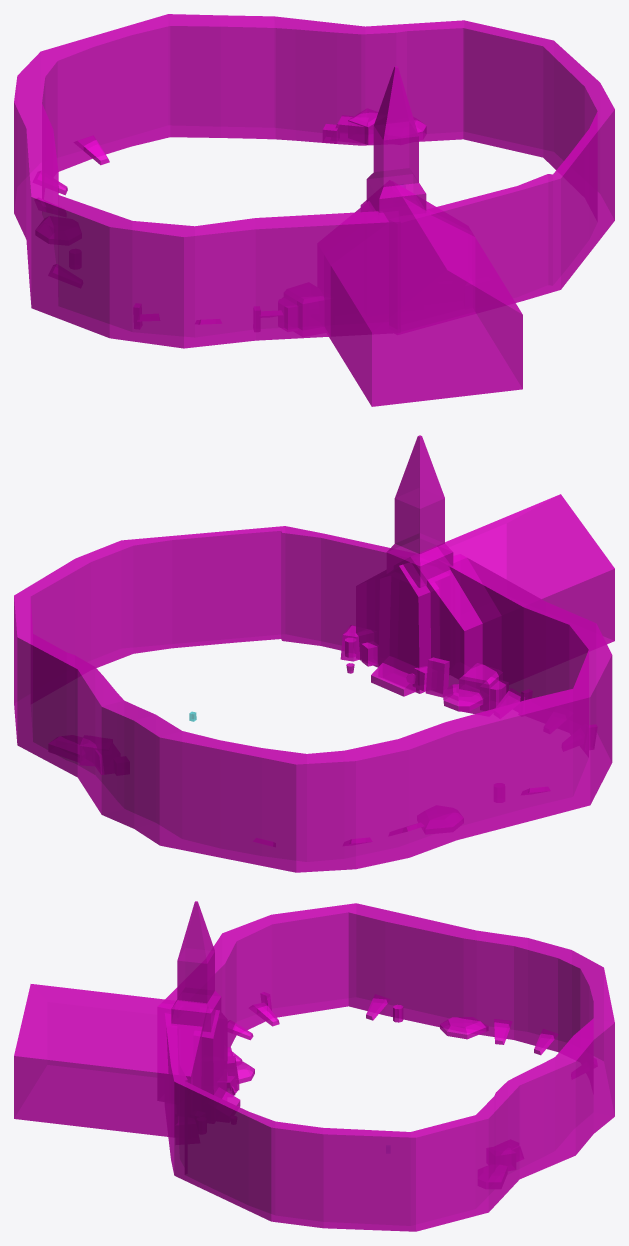
Rendered from SM_Perimeter_01_Collision.fbx.
3 views of the same model, one above another, from view 1: azimuth 30°, elevation 25°; view 2: azimuth 150°, elevation 25°; view 3: azimuth 270°, elevation 25° (orthographic). The views are drawn at different scales.
Parts seen in each view (by area): view 1: Perimeter_01_Collision; view 2: Perimeter_01_Collision; view 3: Perimeter_01_Collision.
Part boxes in pixels (left/top/right/bottom): Perimeter_01_Collision: left=14, top=14, right=614, bottom=406; Perimeter_01_Collision: left=14, top=435, right=614, bottom=872; Perimeter_01_Collision: left=14, top=901, right=614, bottom=1231.
Size of the model in its own units: 4068 by 1751 by 4496.
